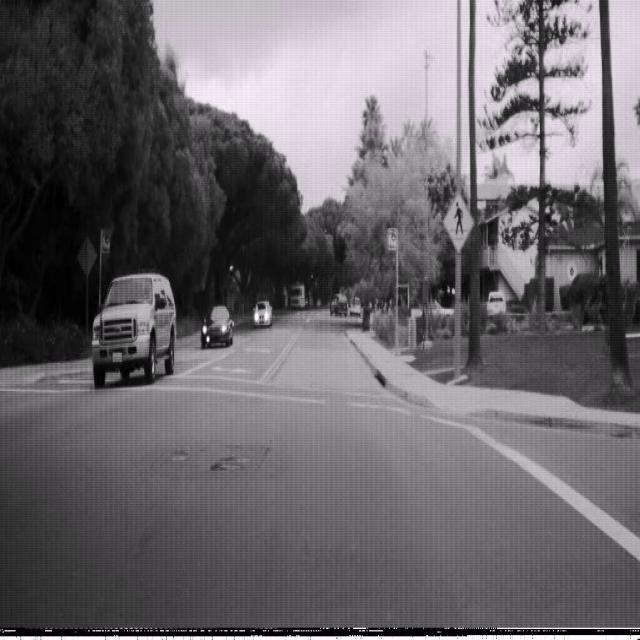pedestrianCrossing: (443, 191, 475, 254)
